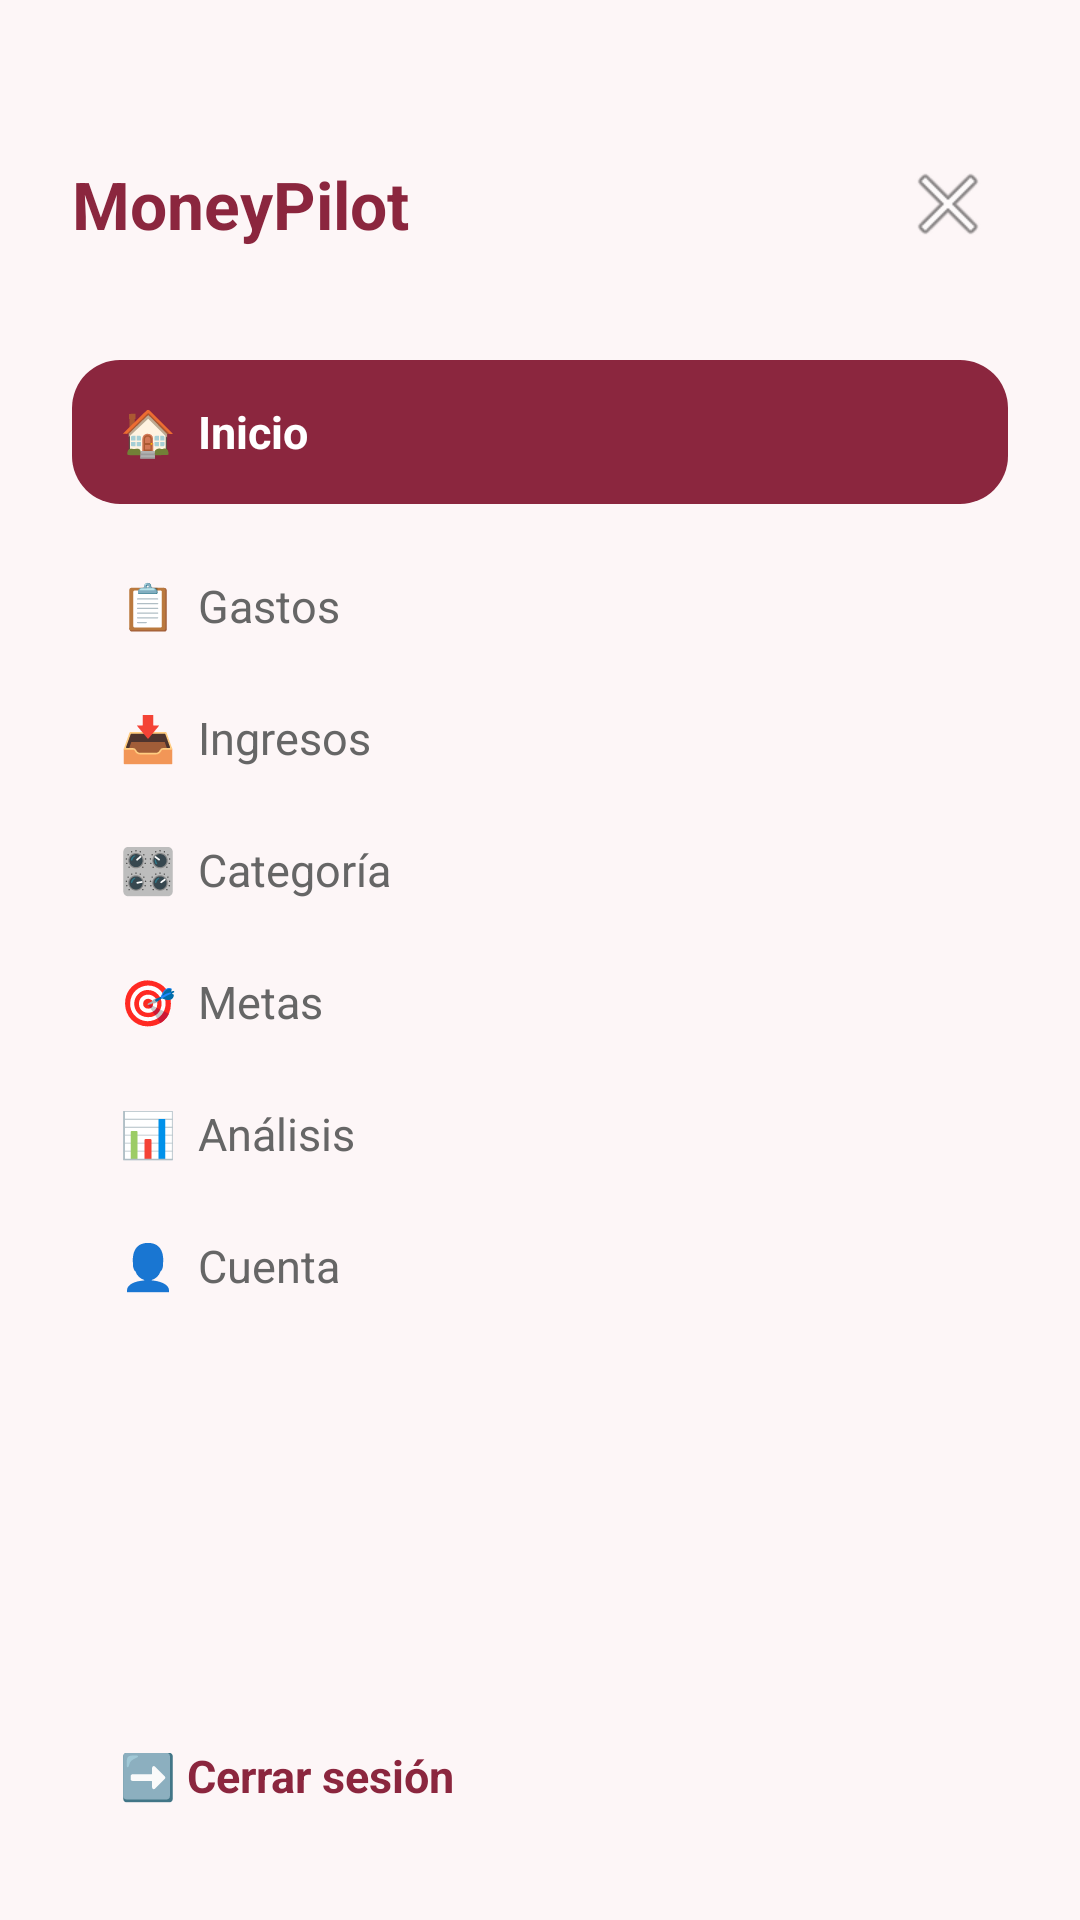

Locate icon controls on the screen. Image size 1080*1920, boxes as region(x1, y1, x2, y2).
Cerrar menú: region(918, 174, 978, 234)
